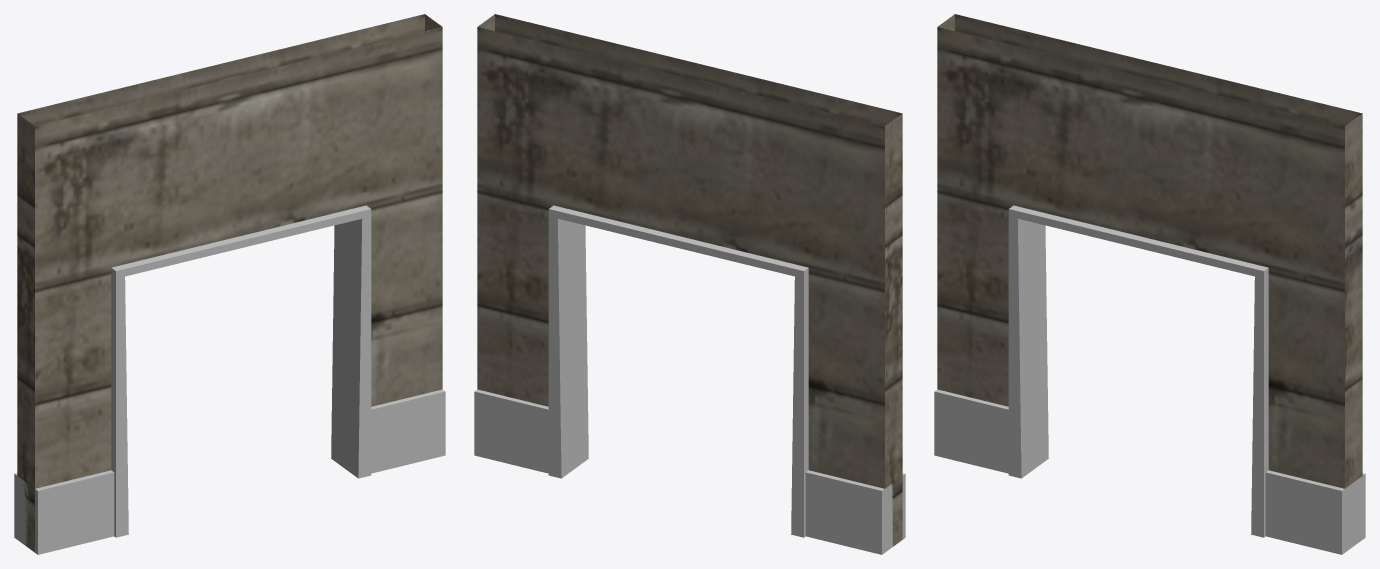
The model's file is MO_WALL_S_DOOR_04.fbx.
3 renders of one model, left to right at view 1: azimuth 30°, elevation 25°; view 2: azimuth 150°, elevation 25°; view 3: azimuth 330°, elevation 25°, orthographic.
Parts seen in each view (by area): view 1: MO_WALL_S_DOOR_04; view 2: MO_WALL_S_DOOR_04; view 3: MO_WALL_S_DOOR_04.
Part boxes in pixels (x1,y1,x2,y2): MO_WALL_S_DOOR_04: (14,14,445,554); MO_WALL_S_DOOR_04: (474,14,905,554); MO_WALL_S_DOOR_04: (934,14,1365,554).
Bounding box in the file's own units: 4 × 4 × 0.464.
